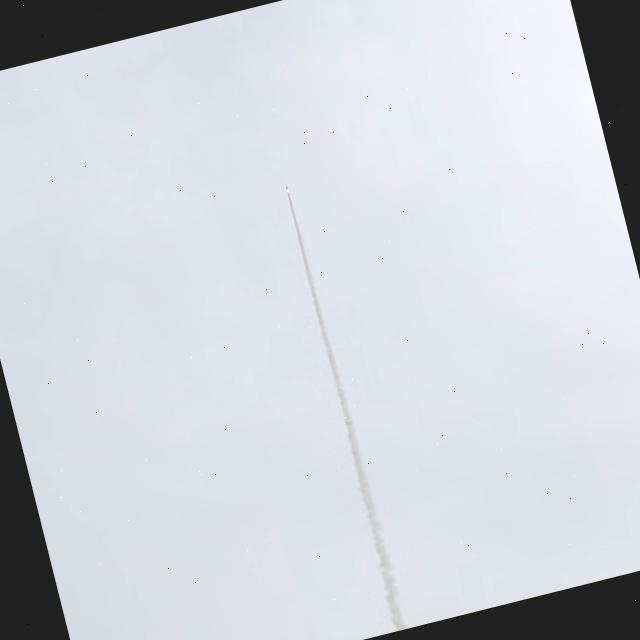smoke_trail_with_rocket: (285, 186, 406, 631)
